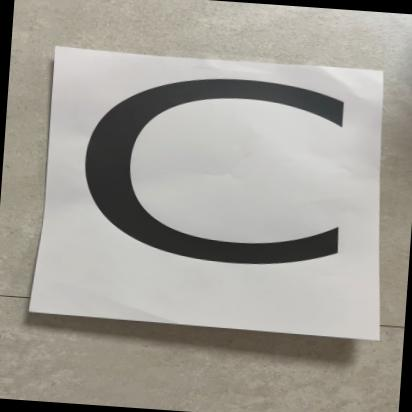seat: (42, 52, 394, 336)
